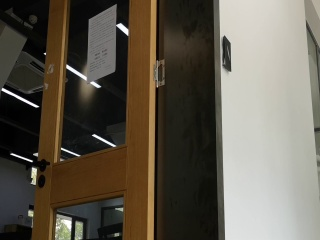room: (30, 3, 225, 240)
